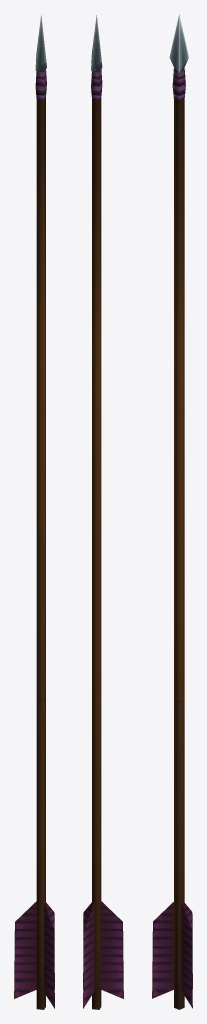
The model's file is Arrow00_mesh.FBX.
The picture shows the model from 3 angles, left to right: view 1: azimuth 30°, elevation 25°; view 2: azimuth 210°, elevation 25°; view 3: azimuth 270°, elevation 25°; orthographic projection.
Visible parts, largest first — view 1: Arrow00_mesh; view 2: Arrow00_mesh; view 3: Arrow00_mesh.
Part boxes in pixels (x1,y1,x2,y2): Arrow00_mesh: (14,15,54,1009); Arrow00_mesh: (83,15,123,1009); Arrow00_mesh: (152,14,192,1009).
Size of the model in its own units: 1.24 by 28.91 by 1.08.
